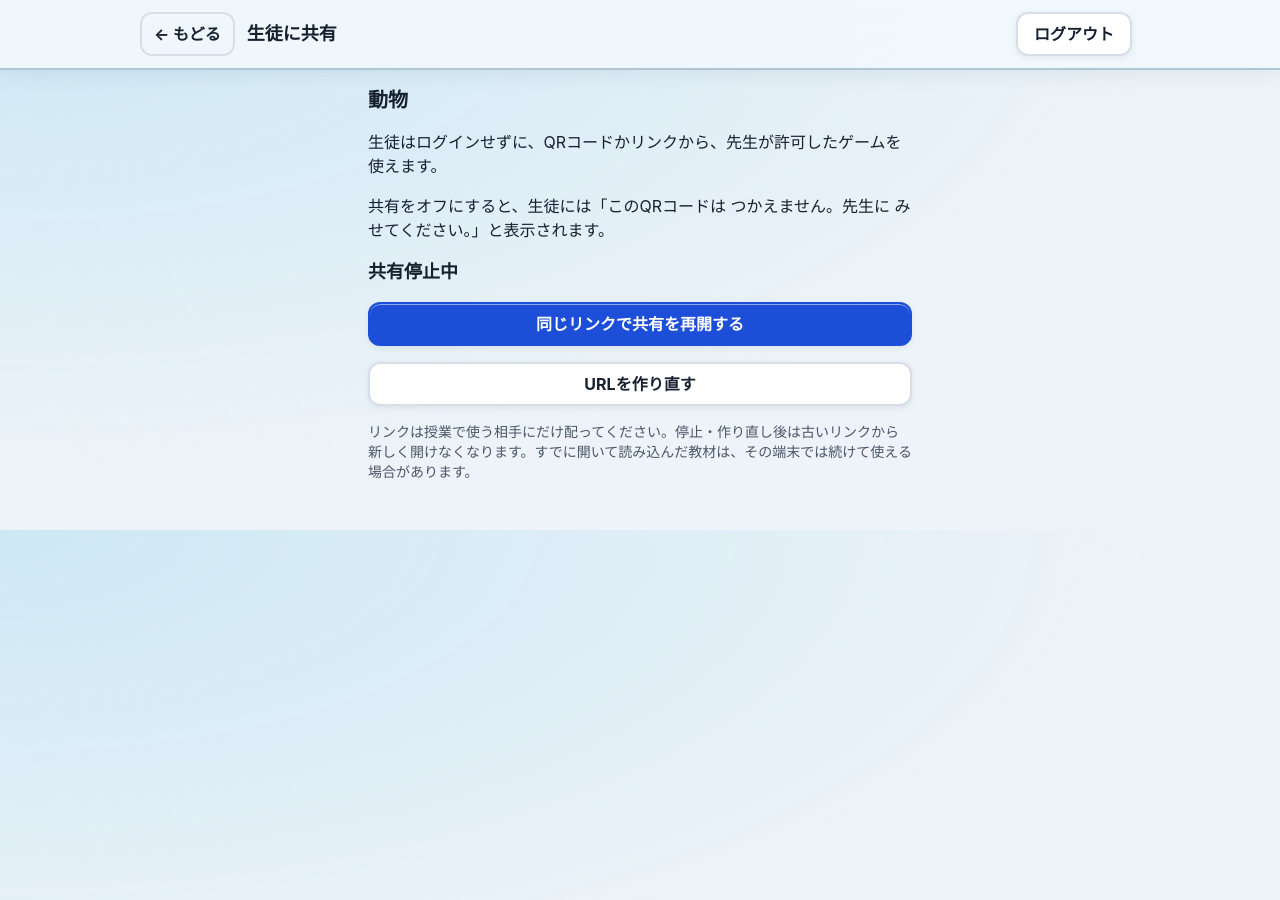
it: 共有直前に教材が未完成になっていたら発行しない
This screenshot has width=1280, height=900.
Step 1. Click the button "同じリンクで共有を再開する" → {"x": 640, "y": 324}, box [368,302,912,346]
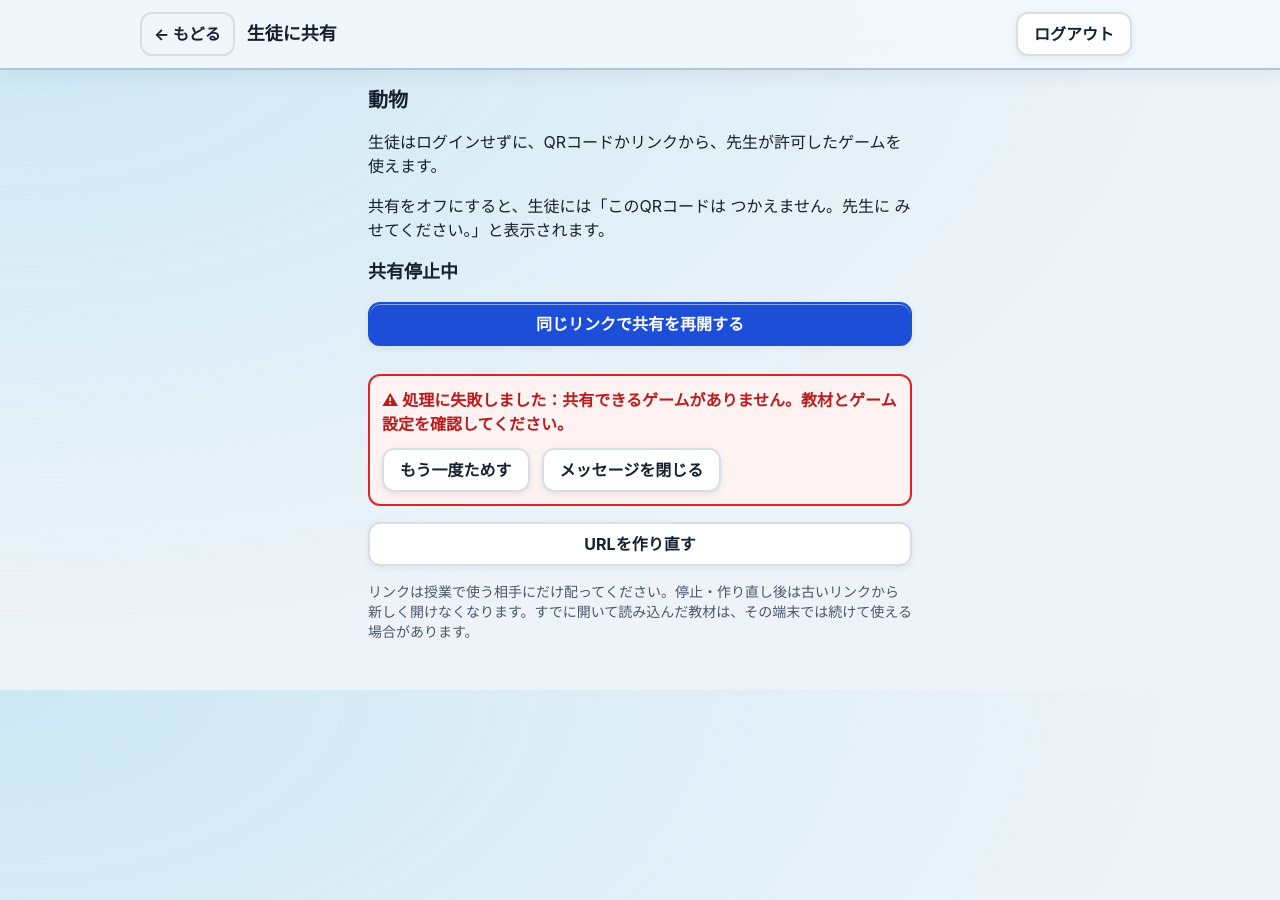
Expected: the message "⚠ 処理に失敗しました：共有できるゲームがありません。教材とゲーム設定を確認してください。 もう一度ためす メッセージを閉じる" is shown, [368,374,912,506]
